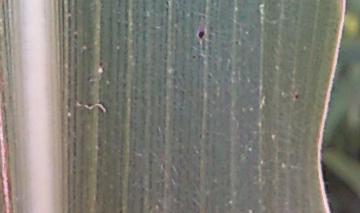tarspot: (195, 21, 208, 41), (96, 56, 106, 68), (292, 89, 302, 100), (71, 31, 81, 41), (132, 93, 141, 102), (190, 53, 198, 61), (234, 40, 241, 46)
